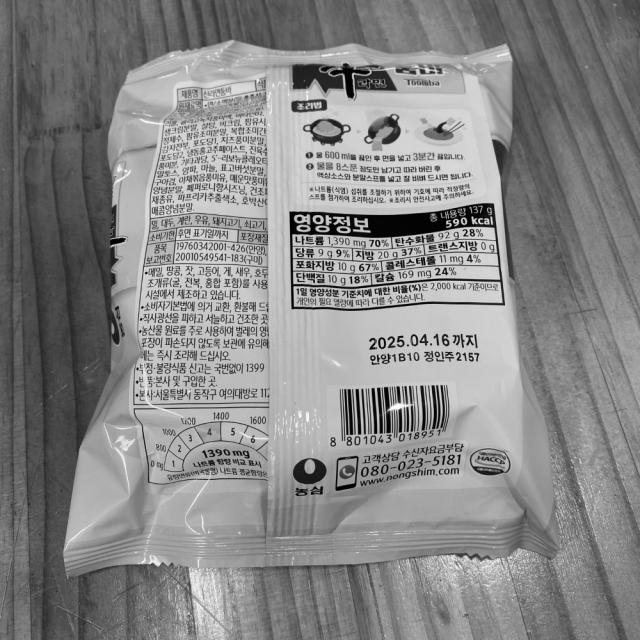Nutrition Label: (281, 204, 513, 329)
